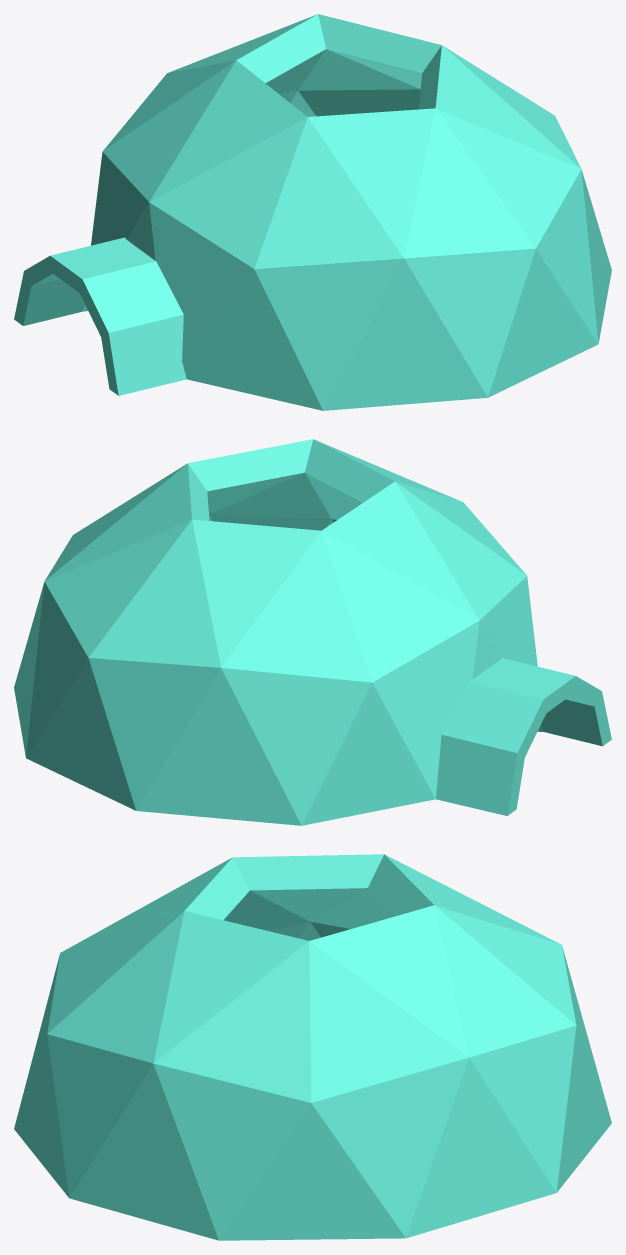
The model's file is Igloo.obj.
3 views of the same model, one above another, from view 1: azimuth 30°, elevation 25°; view 2: azimuth 150°, elevation 25°; view 3: azimuth 270°, elevation 25° (orthographic). The views are drawn at different scales.
Parts seen in each view (by area): view 1: Cylinder.000_Cylinder.005; view 2: Cylinder.000_Cylinder.005; view 3: Cylinder.000_Cylinder.005.
Part boxes in pixels (x1,y1,x2,y2): Cylinder.000_Cylinder.005: [14, 14, 611, 410]; Cylinder.000_Cylinder.005: [14, 439, 611, 825]; Cylinder.000_Cylinder.005: [14, 854, 611, 1240].
Bounding box in the file's own units: 1.49 × 0.6521 × 1.47.
